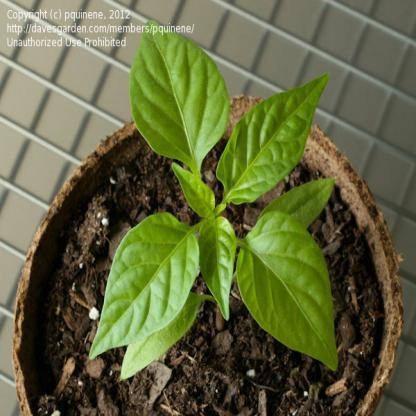Bell_pepper leaf spot: (233, 210, 340, 376), (84, 211, 201, 358), (128, 16, 231, 167), (214, 74, 330, 207), (198, 216, 236, 324), (168, 161, 218, 220)
